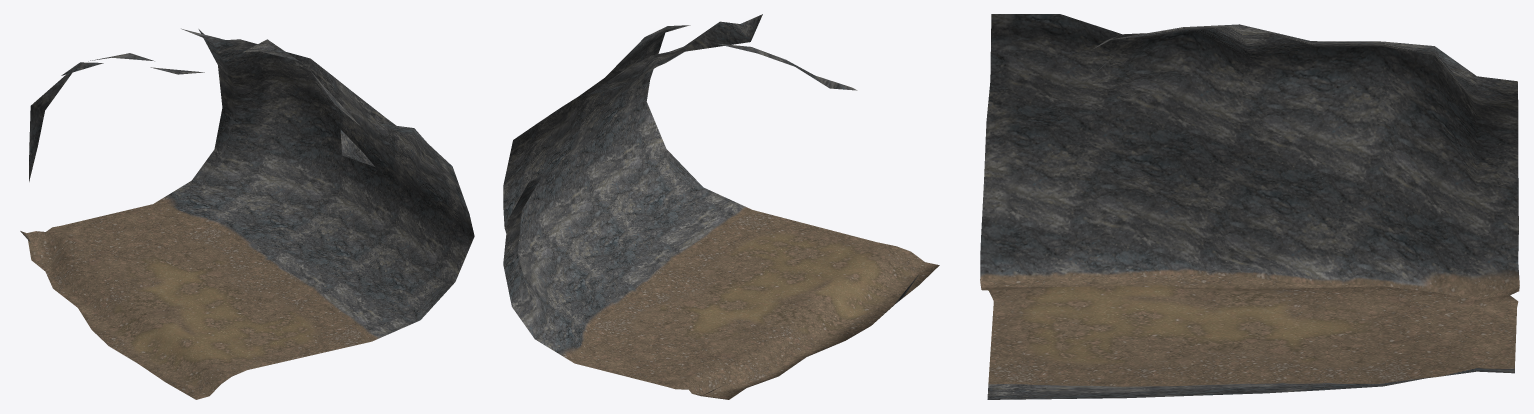
File: TunnelA10.glb
3 renders of one model, left to right at view 1: azimuth 30°, elevation 25°; view 2: azimuth 150°, elevation 25°; view 3: azimuth 270°, elevation 25°, orthographic. The views are drawn at different scales.
Parts seen in each view (by area): view 1: TunnelA10; view 2: TunnelA10; view 3: TunnelA10.
Boxes of the visible parts, bbox=[...] form: TunnelA10: bbox=[20, 28, 474, 399]; TunnelA10: bbox=[503, 14, 939, 399]; TunnelA10: bbox=[980, 14, 1519, 399].
Bounding box in the file's own units: 4.22 × 2.95 × 4.88.
1 material, 1 textured.
